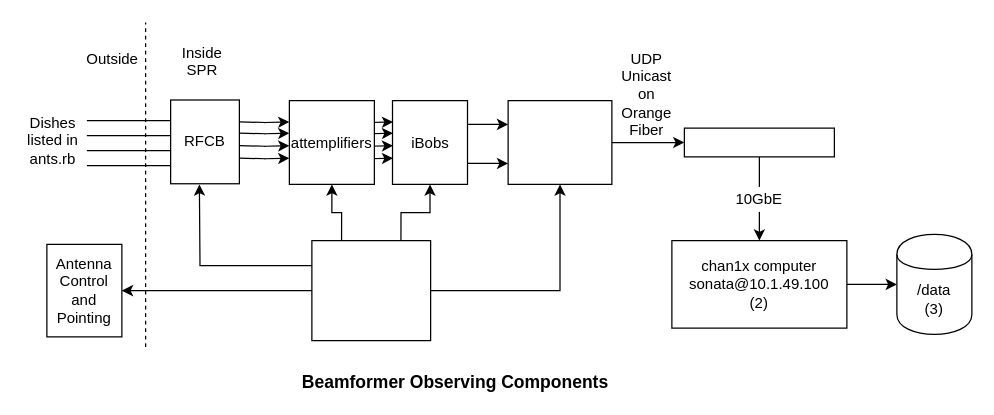
Some shapes in this 994 by 415 pixel diagram are drawn without their labels. Here are the shapes that lost their labels. From the top down, the centre of each, then its label:
At (559,141): "beamformers".
At (758,142): "Fujitsu Switch".
At (371,290): "atasys@sonata (1)".
